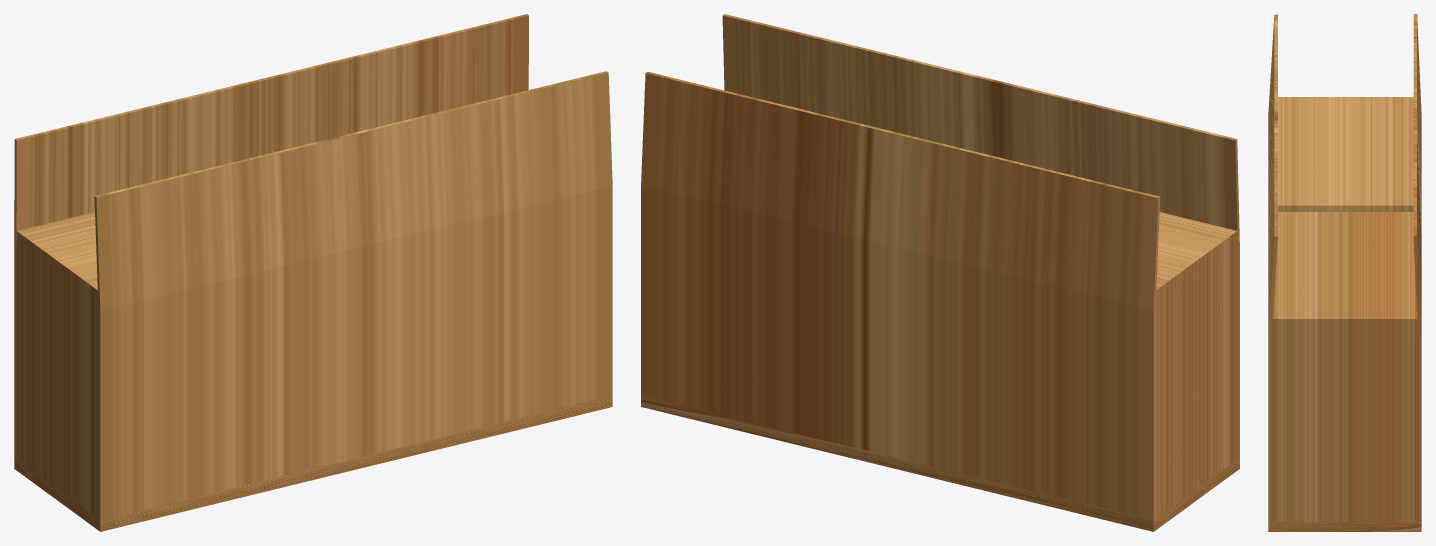
3 views of the same model, side by side, from view 1: azimuth 30°, elevation 25°; view 2: azimuth 150°, elevation 25°; view 3: azimuth 270°, elevation 25° (orthographic). The views are drawn at different scales.
Visible parts, largest first — view 1: Куб; view 2: Куб; view 3: Куб.
Part boxes in pixels (x1,y1,x2,y2): Куб: (14,14,612,531); Куб: (641,14,1239,531); Куб: (1268,14,1421,531).
Bounding box in the file's own units: 2.11 × 1.3 × 0.6122.
Materials: 1 (1 with a texture image).
